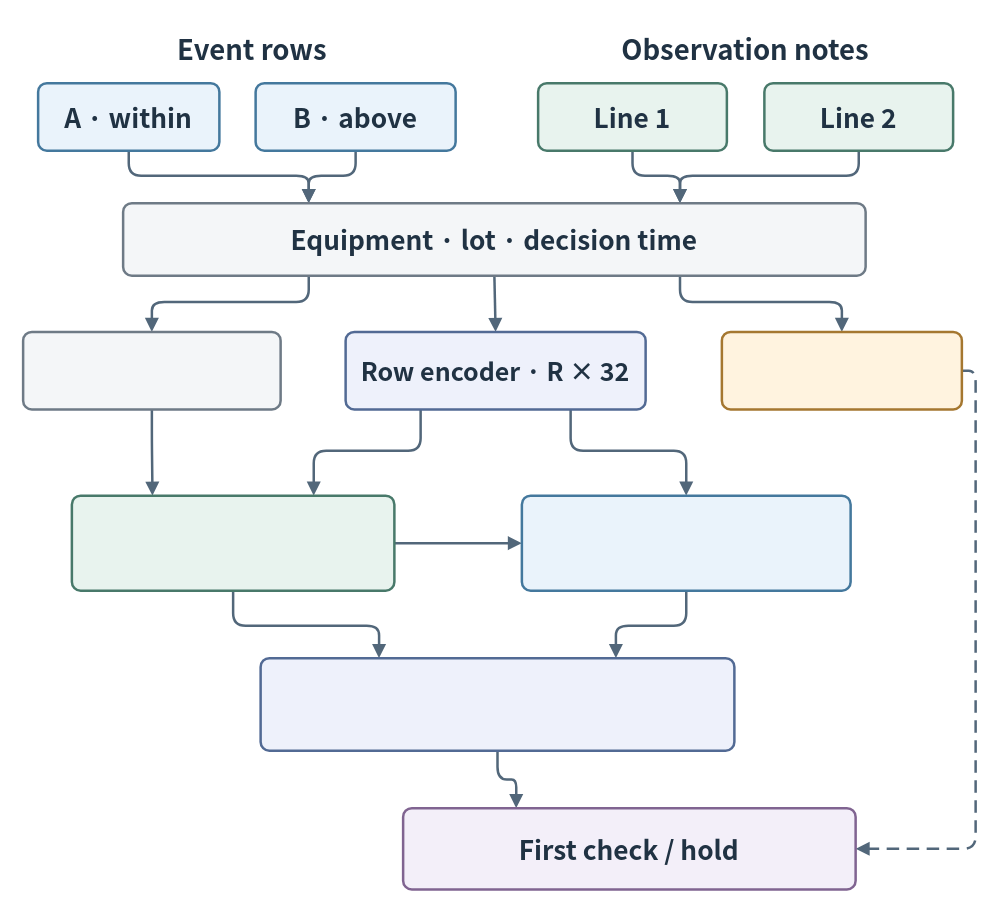
Image size: 1008x911. Some labels were removed from this diagram. Each missing label, with the centre of its shape:
"Log reader · q + m l · row ID" belongs at (x=685, y=542).
"Memo reader · q m · line ID" belongs at (x=232, y=542).
"Registered q₁, q₂" belongs at (x=151, y=370).
"Source checks" belongs at (x=841, y=370).
"State head [q, m, l] Two checks × three states" belongs at (x=497, y=703).
